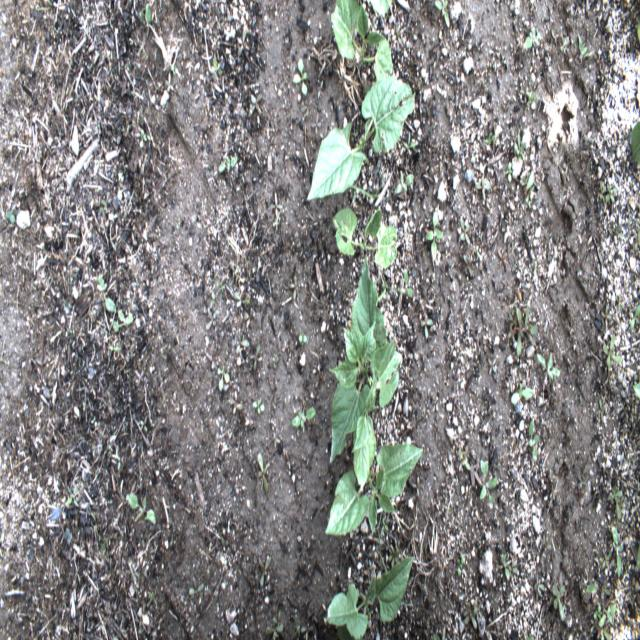crop: (329, 254, 403, 464), (307, 76, 416, 200), (324, 442, 424, 536), (327, 556, 414, 638), (330, 0, 393, 84), (332, 207, 397, 268), (351, 372, 377, 490), (367, 0, 393, 21), (630, 119, 640, 165)
weed: (514, 304, 539, 356), (371, 276, 409, 307), (426, 209, 446, 261), (346, 176, 386, 202), (127, 492, 155, 525), (478, 458, 498, 504), (377, 529, 393, 584), (600, 332, 623, 370), (550, 582, 570, 624), (97, 273, 118, 312), (537, 353, 560, 384), (110, 308, 134, 334), (612, 526, 624, 578), (612, 216, 640, 238), (596, 597, 616, 627), (292, 59, 308, 95), (576, 36, 595, 66), (292, 406, 316, 429), (256, 450, 268, 494), (89, 508, 104, 542), (511, 383, 534, 405), (528, 420, 540, 462), (257, 554, 271, 589), (525, 76, 540, 108), (394, 170, 414, 194), (434, 0, 450, 29), (523, 170, 536, 205), (216, 156, 238, 176), (235, 29, 250, 58), (212, 278, 227, 306), (264, 618, 285, 638), (497, 552, 511, 581), (464, 600, 478, 629), (524, 27, 542, 49), (140, 3, 154, 31), (205, 344, 220, 370), (603, 180, 618, 206), (459, 216, 472, 246), (204, 306, 220, 330), (475, 176, 491, 200), (586, 582, 610, 598), (458, 446, 472, 473), (391, 20, 405, 47), (228, 390, 243, 414), (420, 311, 432, 341), (188, 574, 204, 596), (462, 596, 478, 618), (249, 345, 263, 370), (250, 92, 264, 116), (217, 366, 231, 390), (320, 596, 332, 624), (270, 190, 282, 218), (516, 132, 527, 162), (387, 546, 402, 568), (66, 484, 79, 509), (403, 268, 414, 297), (235, 333, 250, 354), (234, 290, 250, 309), (533, 573, 546, 596), (6, 206, 22, 224), (310, 112, 322, 136), (596, 622, 612, 640), (462, 252, 473, 278), (402, 130, 416, 150), (609, 484, 623, 504), (600, 305, 612, 328), (412, 476, 424, 498), (101, 536, 111, 562), (210, 56, 223, 76), (290, 614, 300, 640), (288, 274, 298, 300), (507, 311, 519, 332), (512, 139, 522, 164), (630, 304, 640, 329), (273, 608, 283, 631), (504, 160, 514, 183), (588, 614, 600, 633), (379, 517, 391, 536), (389, 544, 398, 569), (301, 624, 315, 640), (252, 398, 265, 415), (164, 71, 174, 93), (614, 499, 624, 521), (614, 293, 626, 311), (559, 34, 569, 55), (456, 555, 466, 576), (599, 178, 607, 204), (488, 357, 498, 377), (543, 534, 553, 554), (620, 401, 630, 421), (472, 602, 482, 622), (507, 325, 517, 345), (139, 128, 148, 150), (301, 96, 310, 118), (432, 626, 446, 640), (632, 228, 640, 252), (244, 307, 253, 328), (632, 362, 640, 385), (232, 264, 241, 284), (270, 432, 281, 448), (316, 79, 324, 101), (597, 399, 605, 421), (595, 52, 604, 71), (626, 381, 636, 398), (484, 134, 498, 146), (599, 65, 608, 83), (634, 543, 640, 569), (592, 606, 602, 621), (140, 414, 148, 432), (550, 28, 559, 44), (600, 553, 609, 569), (632, 382, 640, 400), (620, 422, 629, 438), (507, 560, 518, 573), (298, 332, 308, 346), (521, 172, 531, 186), (148, 591, 156, 607), (620, 522, 628, 538), (99, 197, 106, 214), (574, 392, 584, 403), (117, 455, 122, 473), (636, 22, 640, 43), (109, 344, 119, 352), (607, 371, 612, 386), (90, 414, 96, 426), (352, 188, 357, 201), (169, 65, 176, 74), (70, 328, 75, 334), (424, 217, 430, 222)
